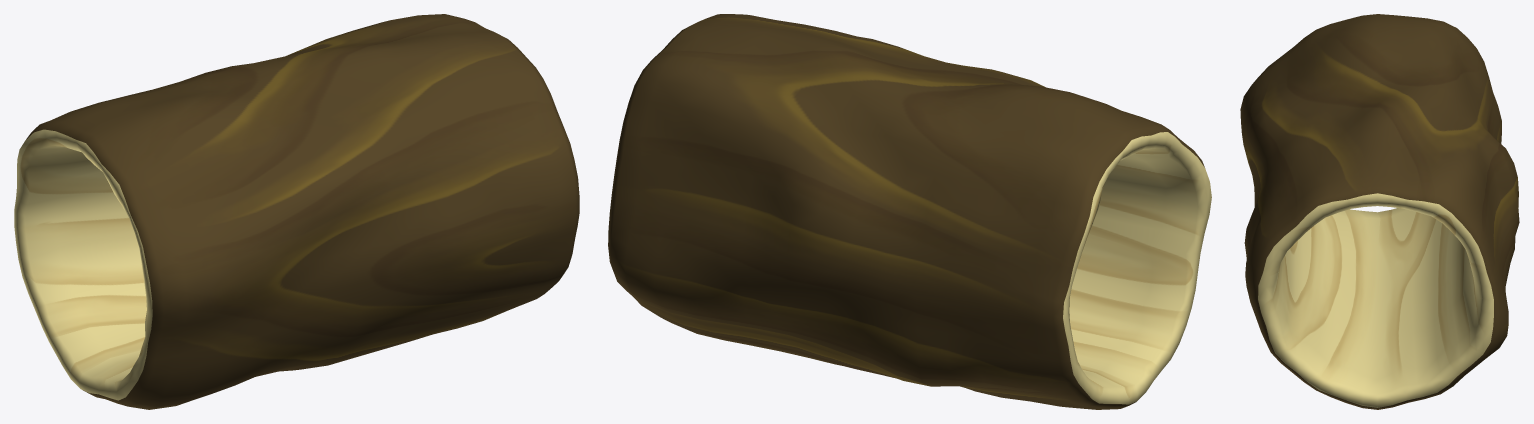
The model's file is GenericLog.fbx.
The picture shows the model from 3 angles, left to right: view 1: azimuth 30°, elevation 25°; view 2: azimuth 150°, elevation 25°; view 3: azimuth 270°, elevation 25°; orthographic projection. The views are drawn at different scales.
Visible parts, largest first — view 1: GenericLog; view 2: GenericLog; view 3: GenericLog.
Boxes of the visible parts, x1=… form: GenericLog: x1=14, y1=14, x2=579, y2=409; GenericLog: x1=608, y1=14, x2=1211, y2=409; GenericLog: x1=1240, y1=14, x2=1519, y2=409.
Size of the model in its own units: 356 by 223 by 227.
1 material, 1 textured.
